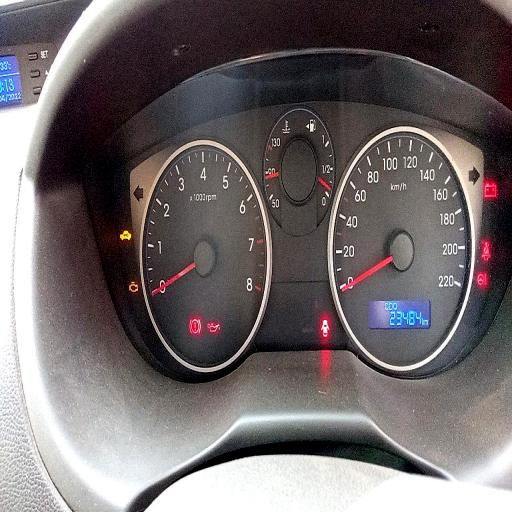belt: (482, 238, 490, 263)
brake_system_fault: (189, 317, 201, 335)
check_engine: (129, 280, 139, 293)
oil: (207, 321, 220, 333)
tachometer: (140, 138, 271, 372)
vehicle_charging: (483, 181, 497, 200)
